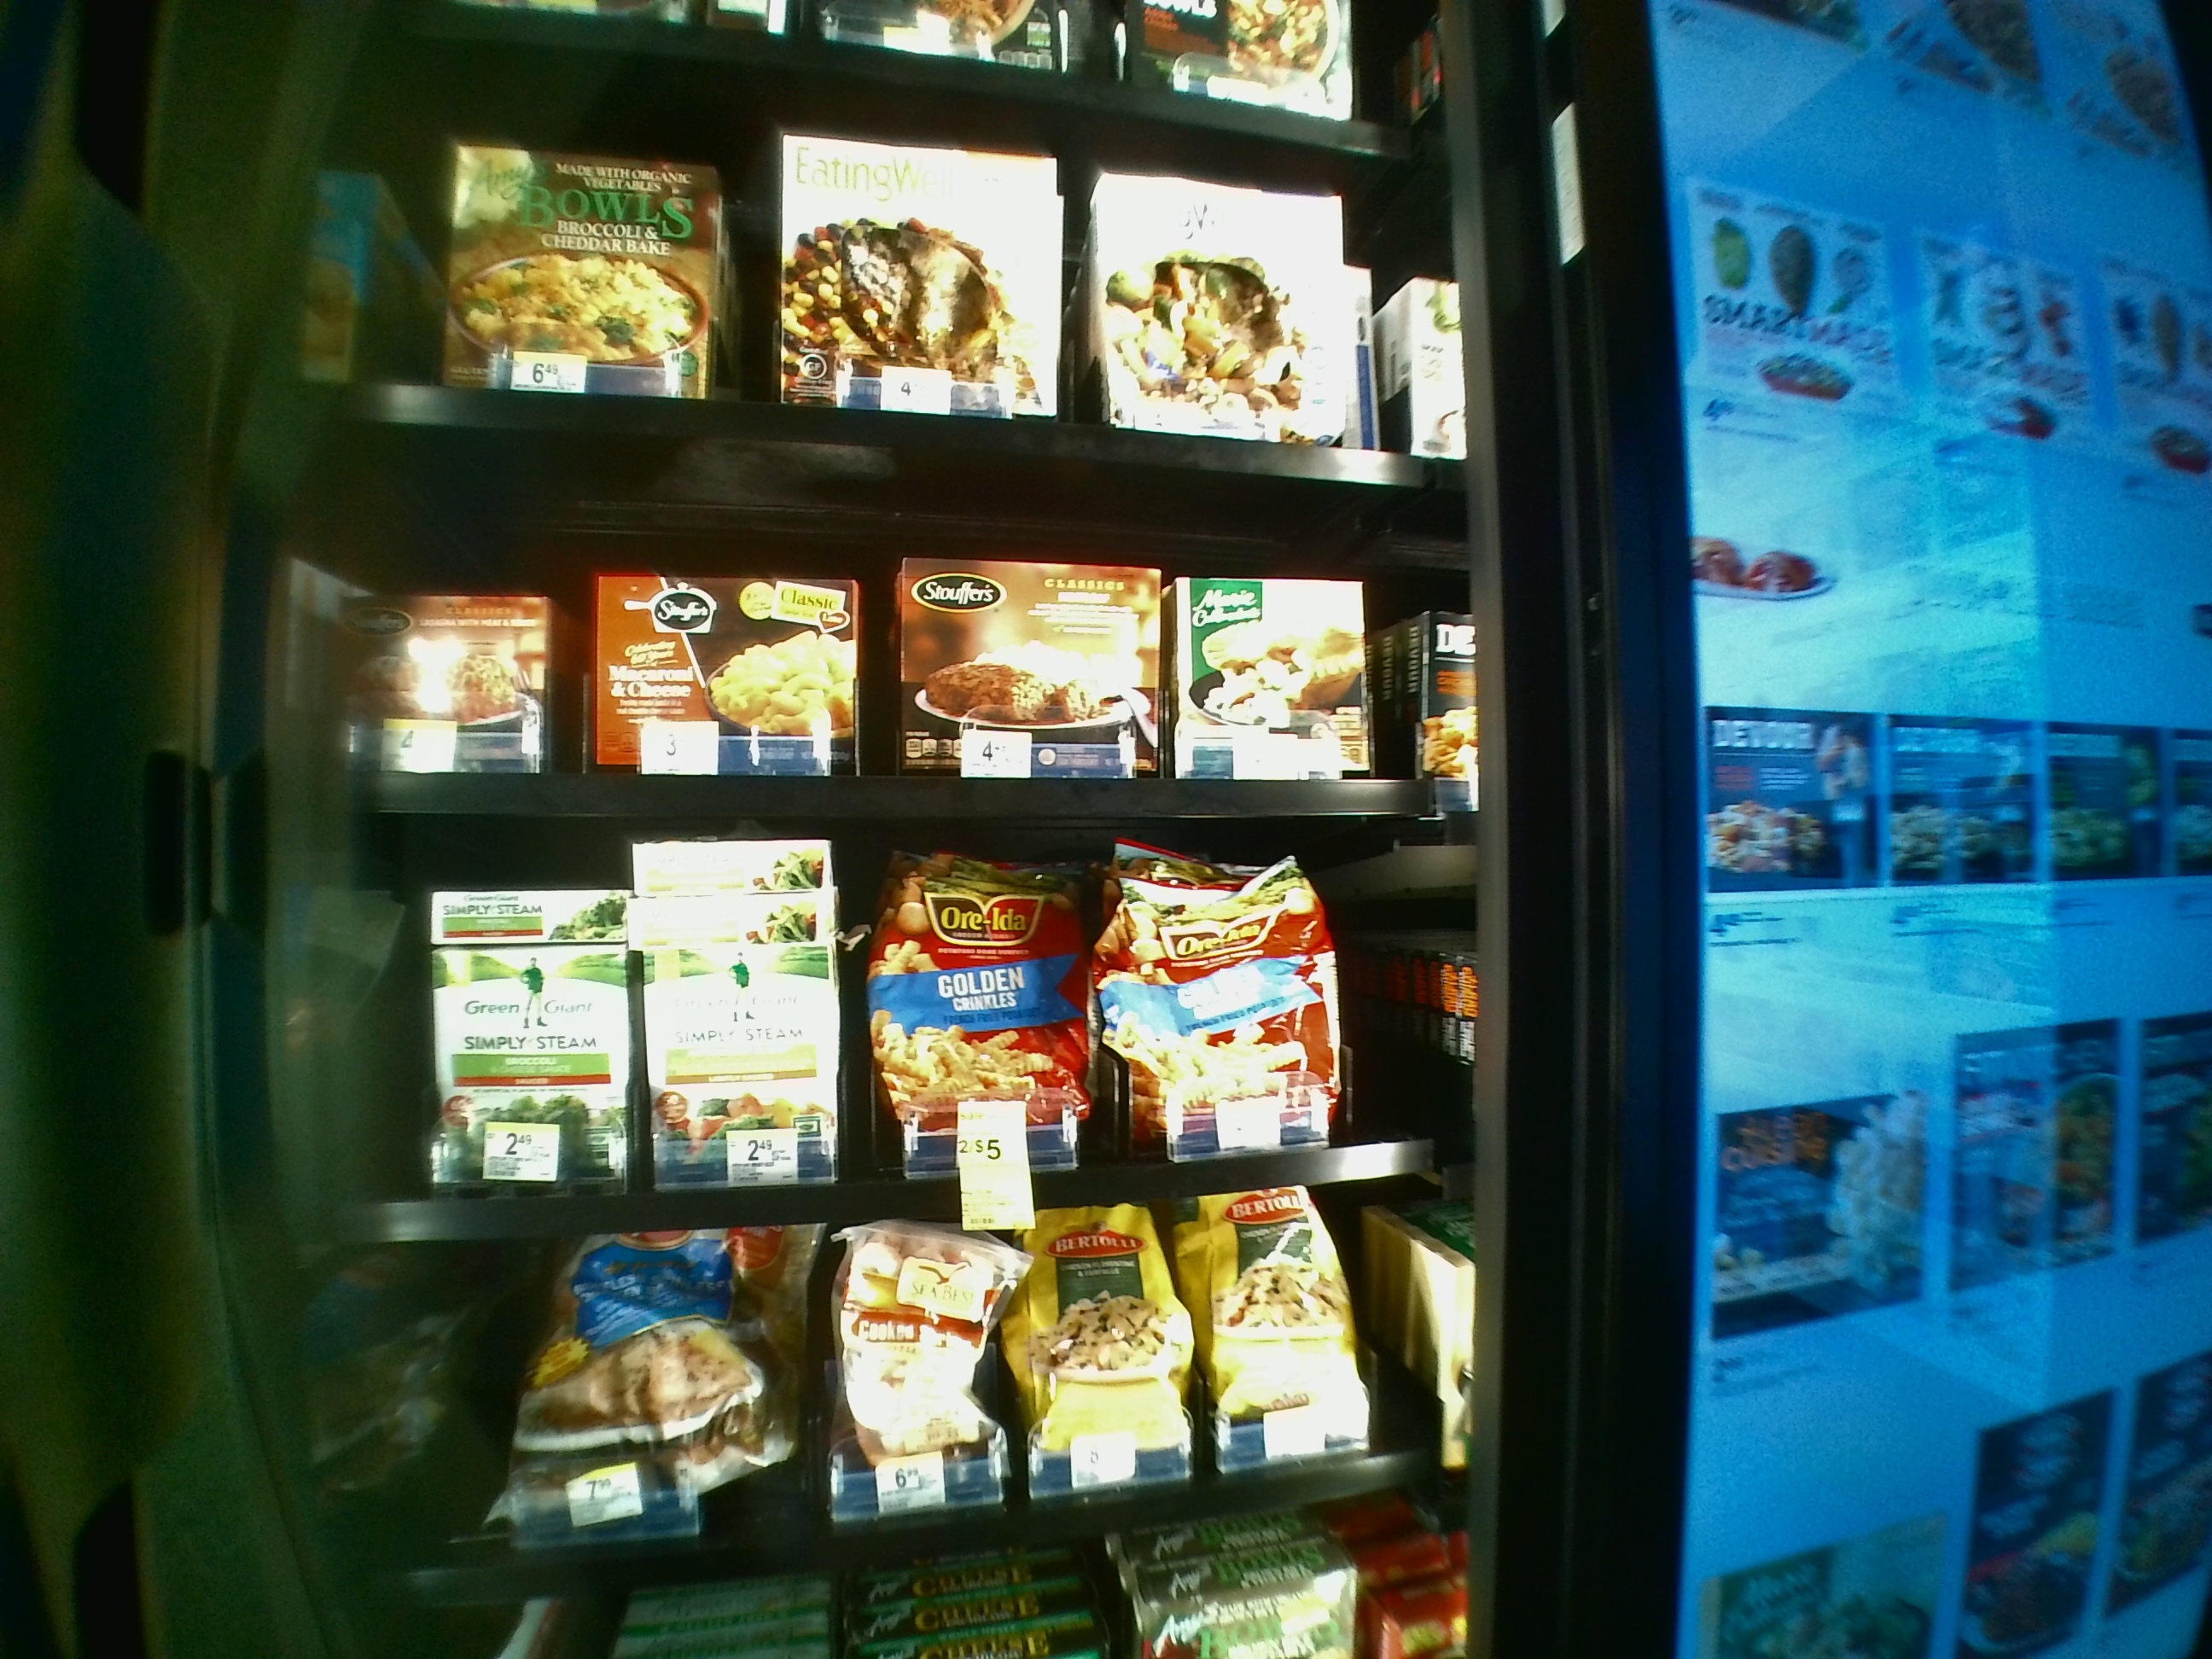shelf: (315, 828, 1470, 1251), (308, 415, 1470, 814)
